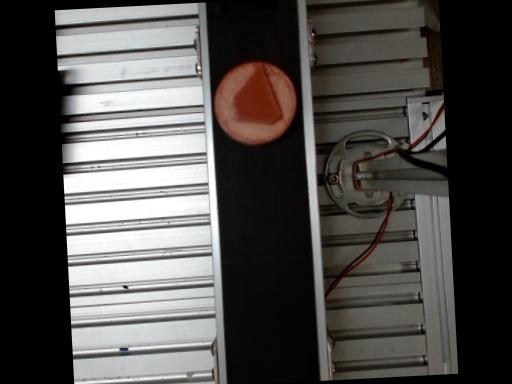Brown_Waper: (214, 61, 296, 144)
Not_Square: (232, 62, 284, 124)
